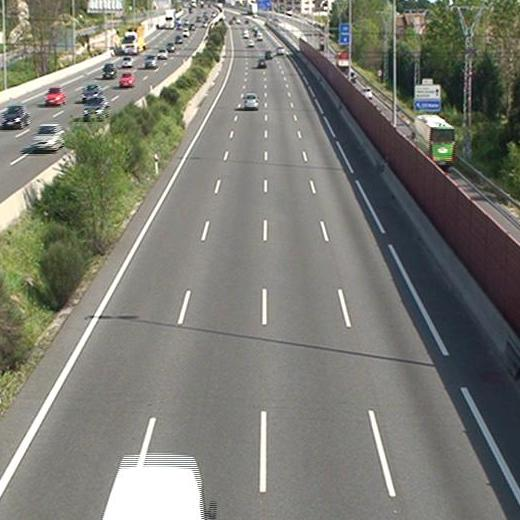car: (244, 93, 258, 108), (257, 58, 266, 69)
